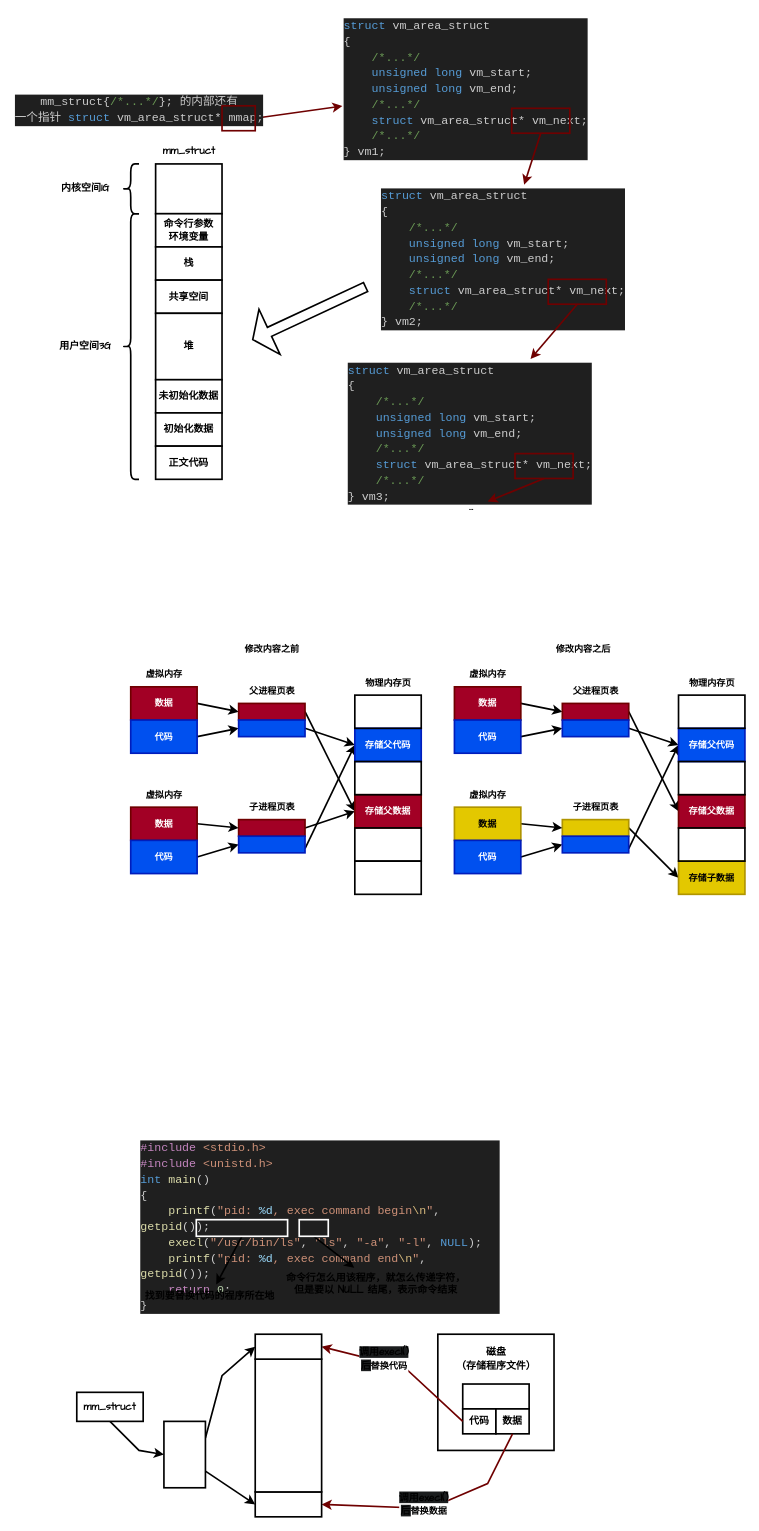
This 759x1531 diagram has some shape labels left out. Here are the shapes that lost their labels. From the top down, the box of each, then its label:
(154, 163, 222, 214): 内核空间
(241, 263, 377, 363): 更细的划分
(254, 1333, 322, 1360): 原进程代码
(461, 1383, 530, 1409): ls程序
(254, 1358, 322, 1492): 物理内存
(163, 1420, 206, 1488): 页表
(254, 1491, 322, 1517): 原进程数据
